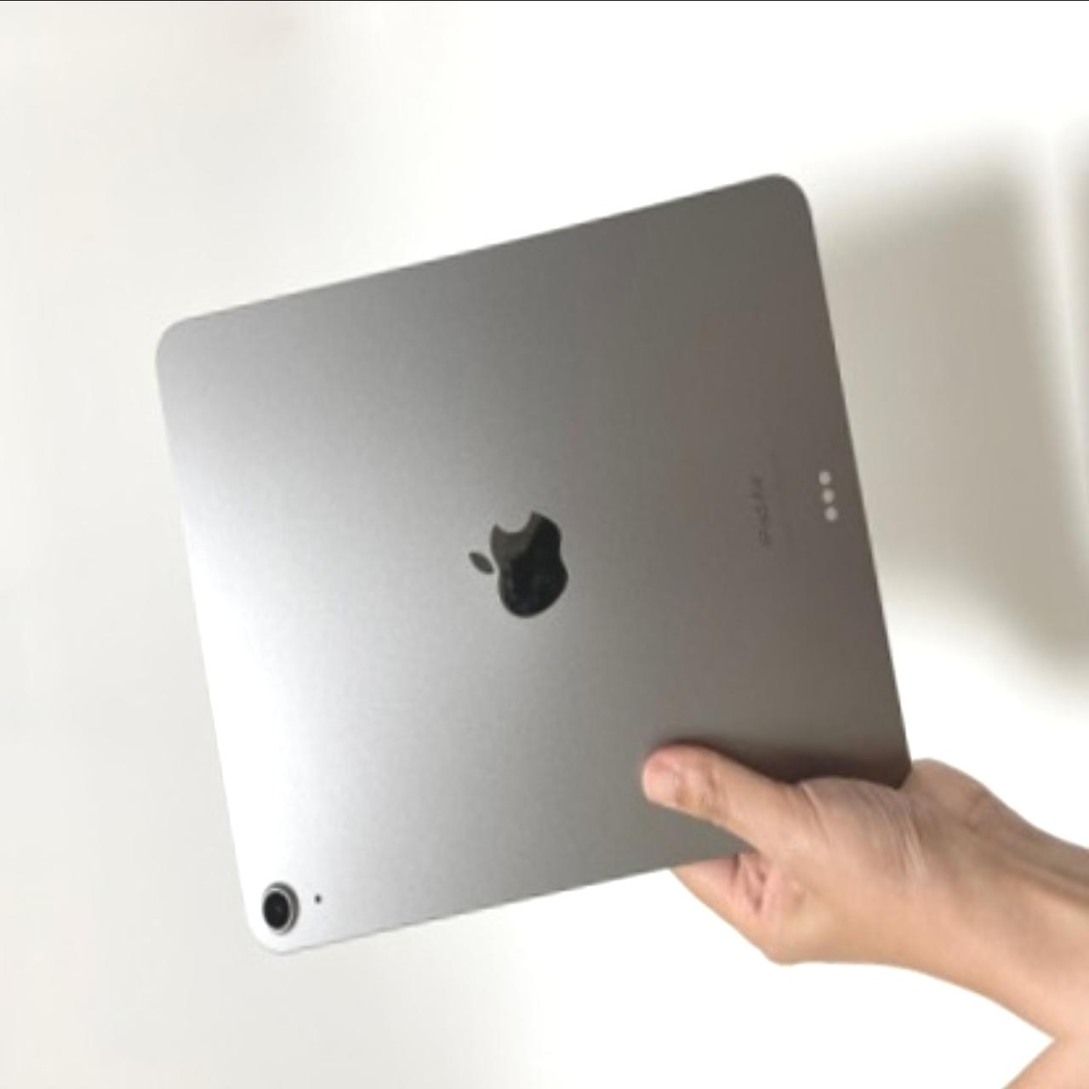Tablet_PC: (127, 141, 938, 973)
